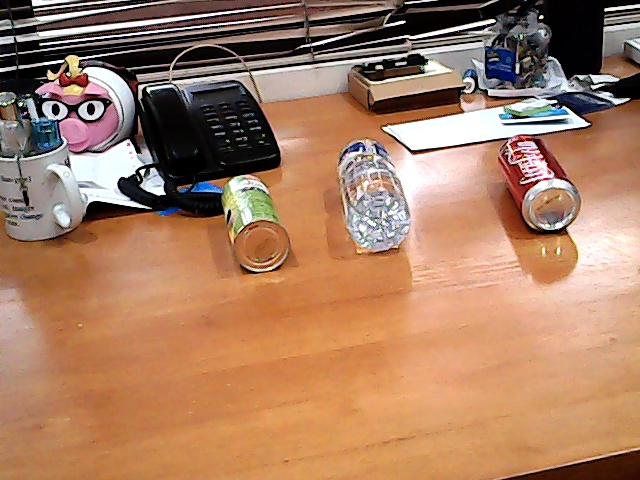Cola: (480, 126, 599, 245)
Pine Juice: (198, 159, 300, 288)
Summit Water: (317, 123, 429, 269)
